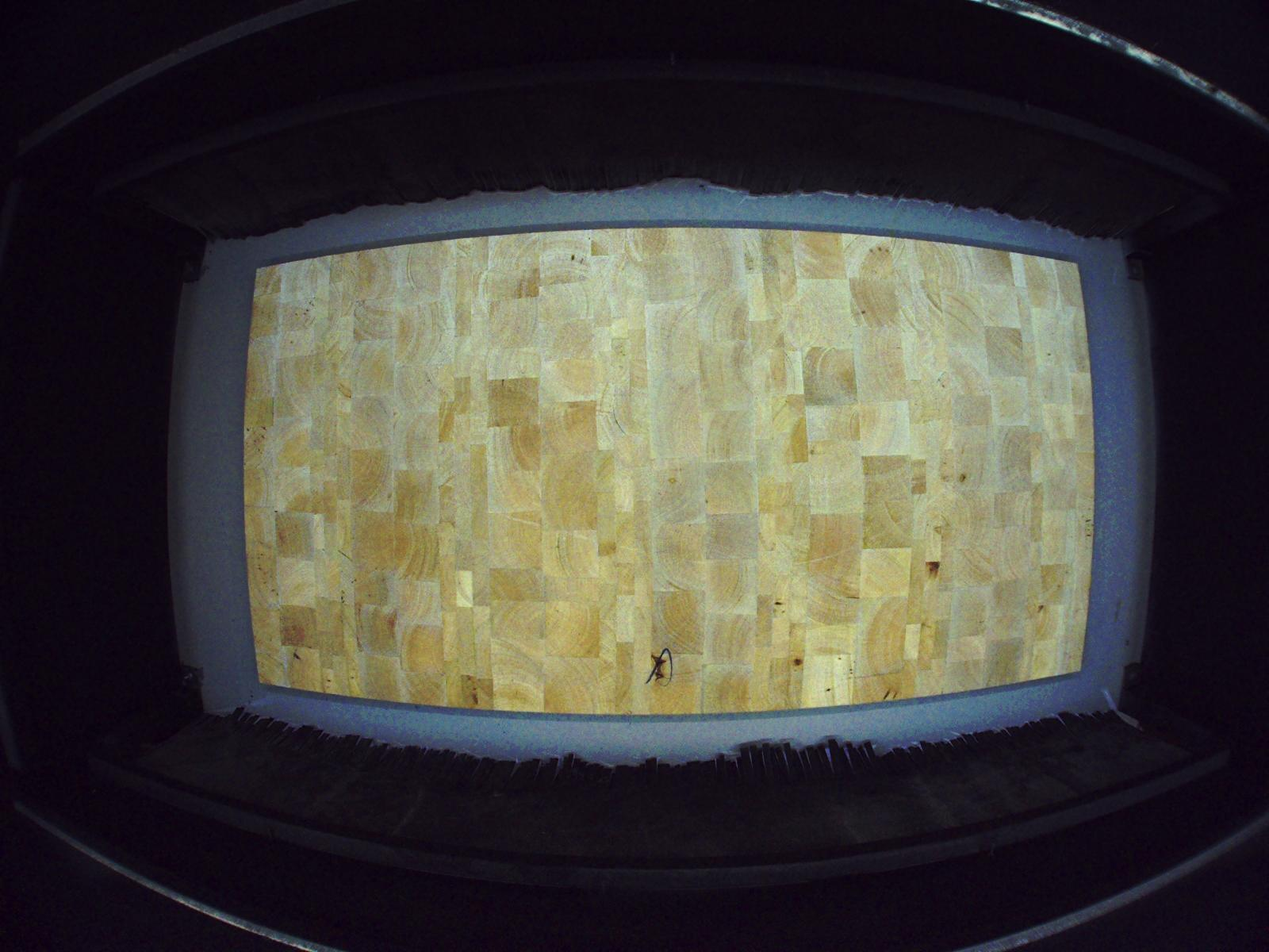nudillo: (650, 653, 673, 684)
